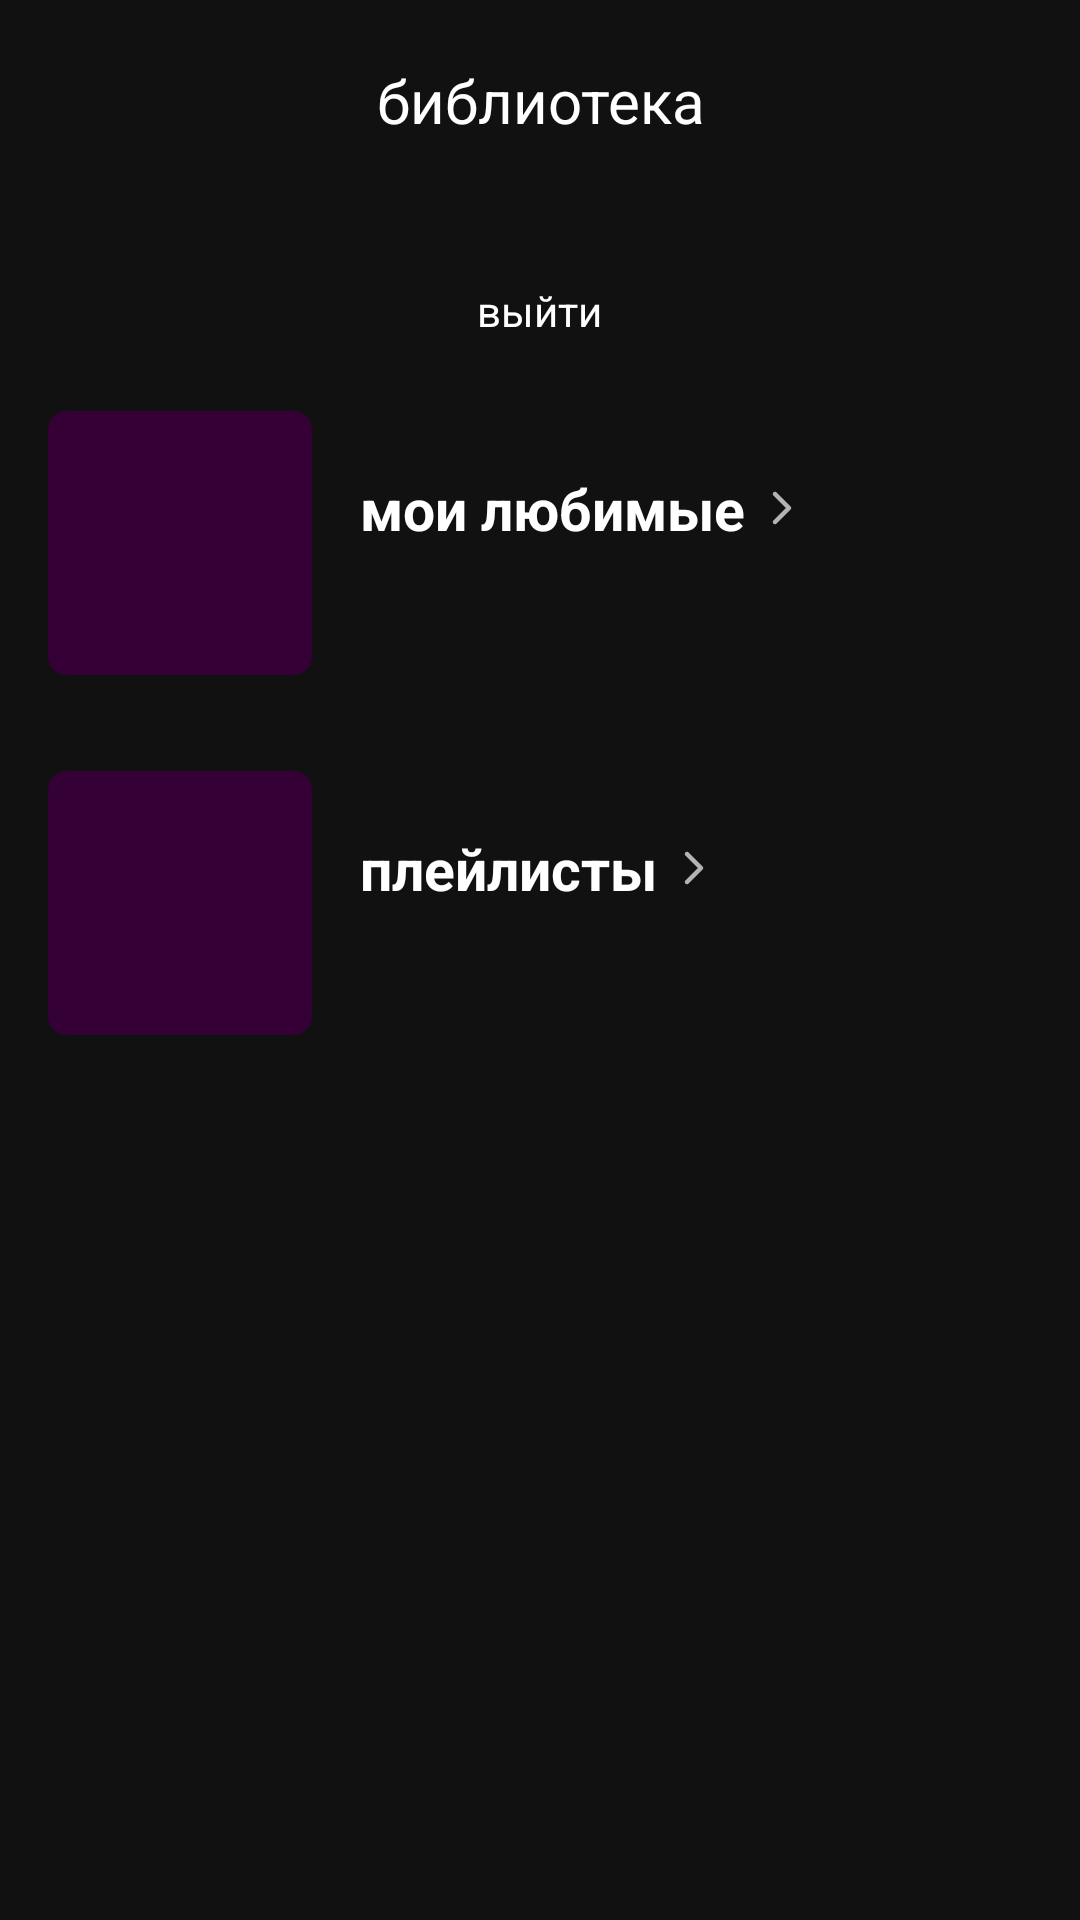

Icons on this 1080px×1920px Android screen, each with the point to tap as [x,y]:
chevron right: [782,508], [694,868]
